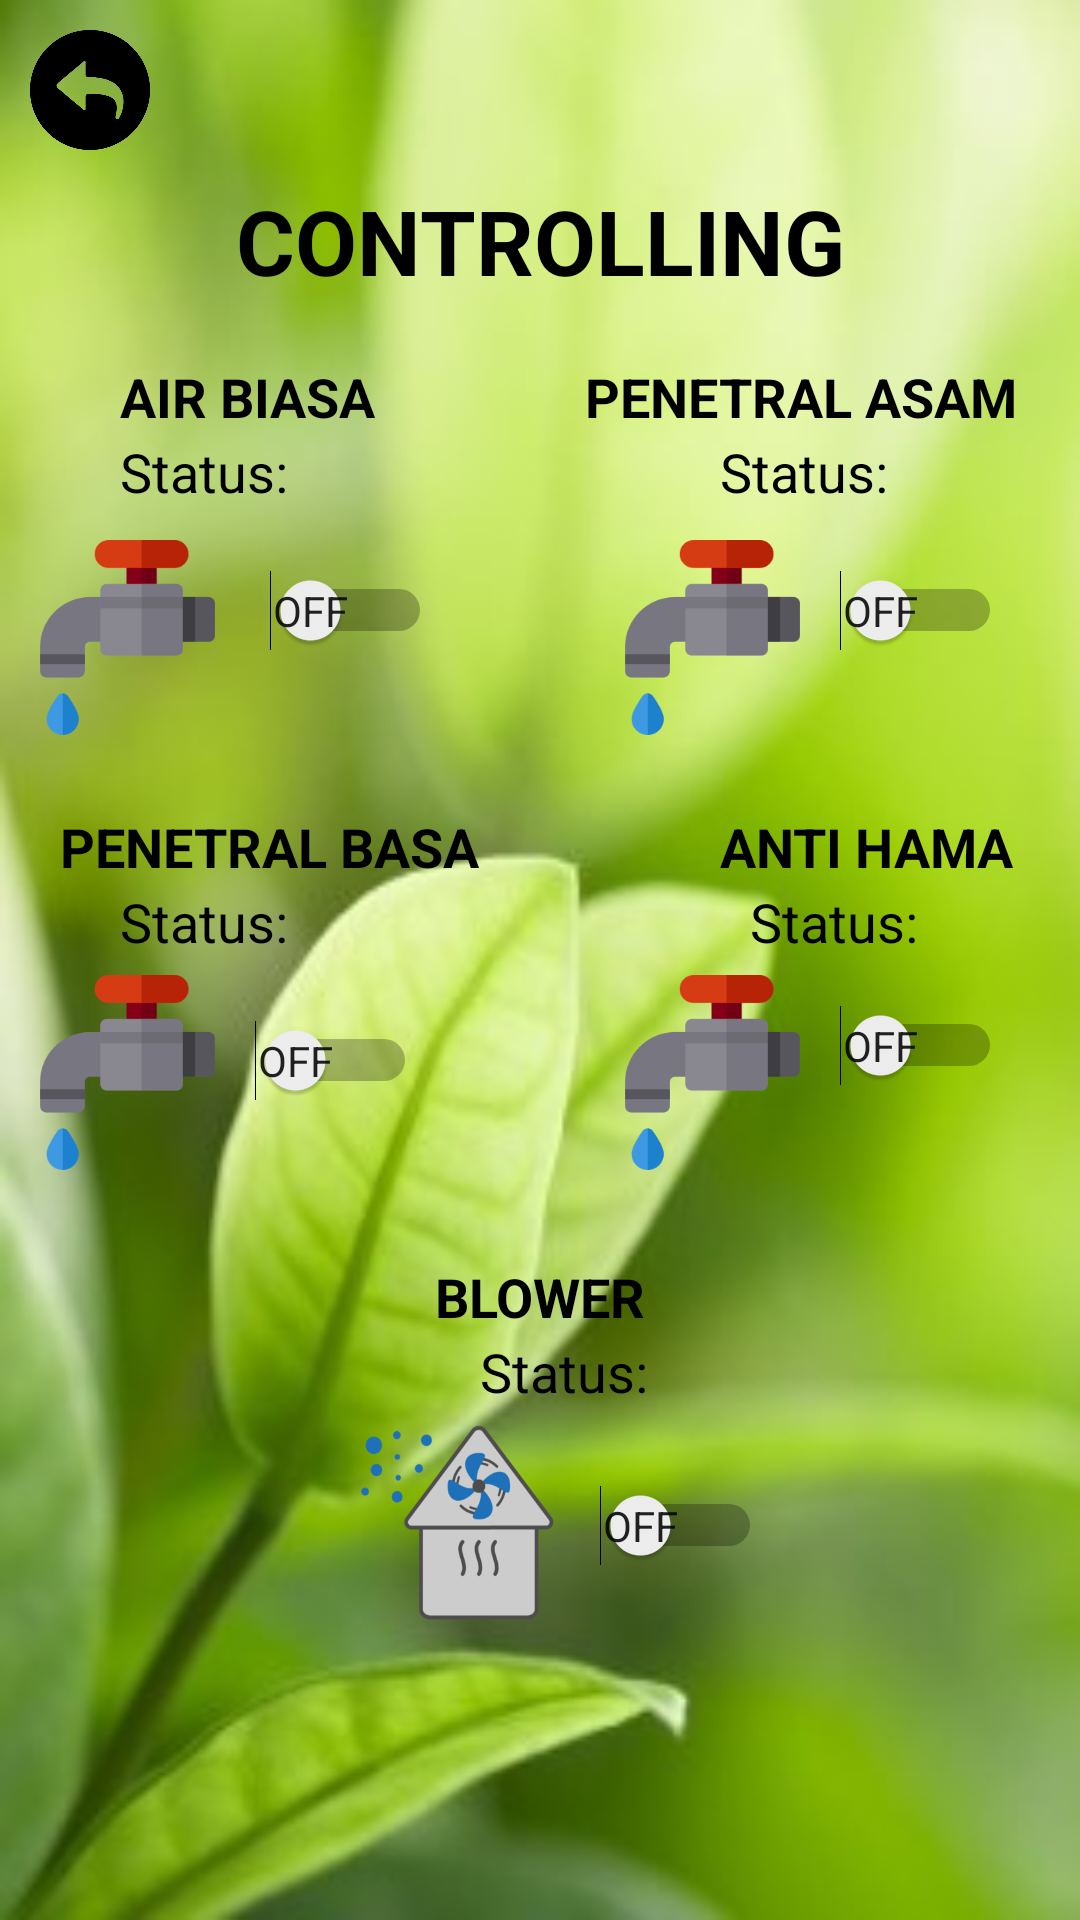

Named icons in this screenshot (1080 x 1920) and their centers, (x=x, y=y):
back: (x=90, y=90)
pump: (x=127, y=637), (x=712, y=637), (x=127, y=1072), (x=712, y=1072)
